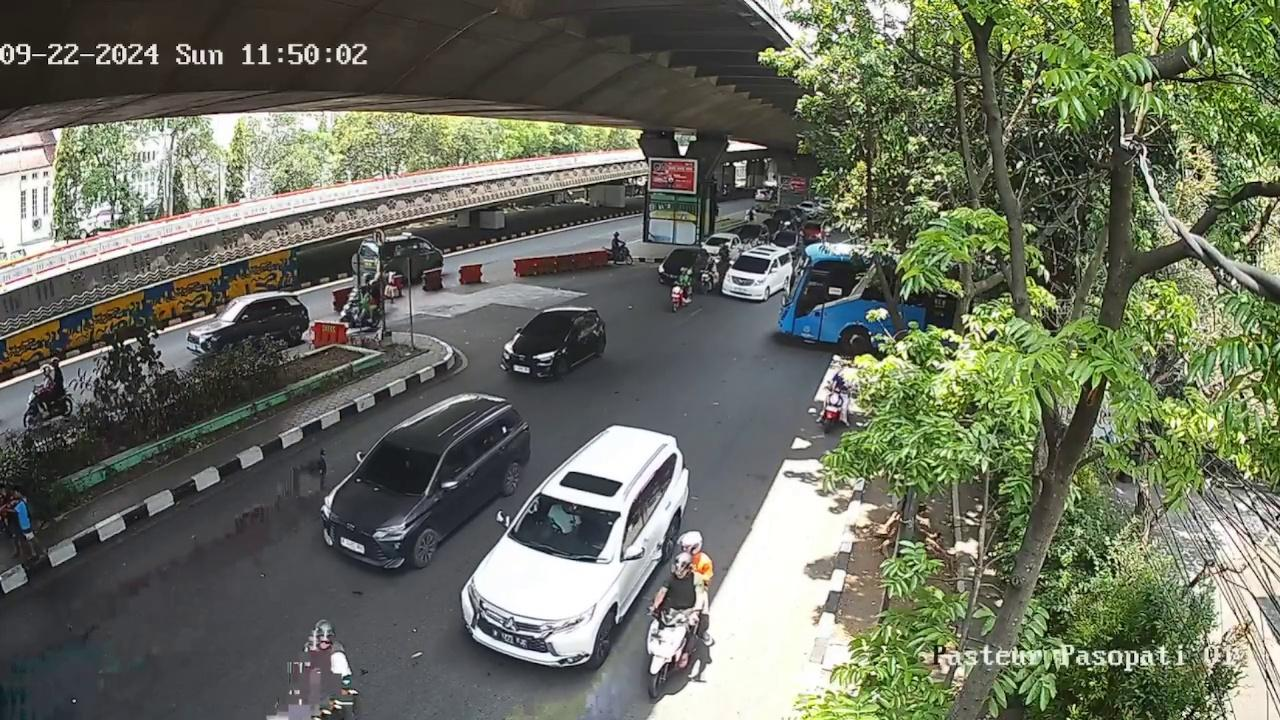tidak-pakai: (541, 499, 580, 535)
windshield: (509, 491, 622, 562), (357, 437, 441, 493), (518, 316, 574, 340), (730, 253, 770, 277)
